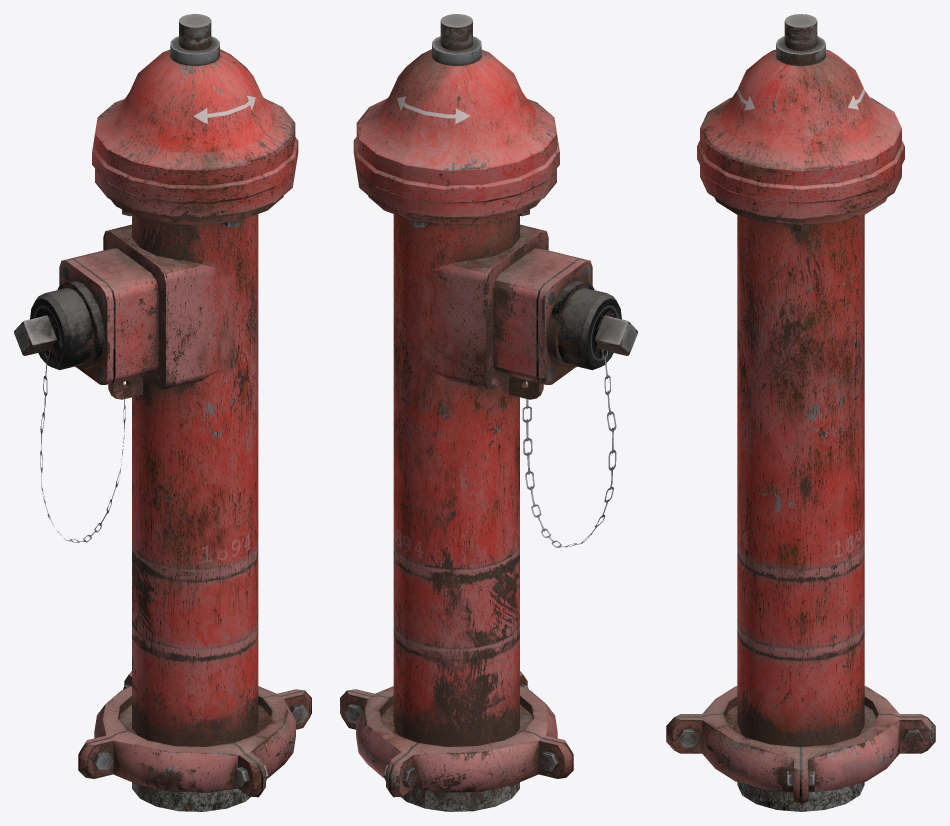
Rendered from nyc_hydrant.glb.
3 renders of one model, left to right at view 1: azimuth 30°, elevation 25°; view 2: azimuth 150°, elevation 25°; view 3: azimuth 270°, elevation 25°, orthographic.
Visible parts, largest first — view 1: low, chain; view 2: low, chain; view 3: low.
Part boxes in pixels (left/top/right/bottom): low: left=14, top=14, right=311, bottom=811; chain: left=40, top=349, right=125, bottom=542; low: left=340, top=14, right=637, bottom=811; chain: left=522, top=349, right=616, bottom=547; low: left=666, top=14, right=935, bottom=811.
Size of the model in its own units: 3.87 by 9.76 by 3.12.
2 materials, 2 textured.
